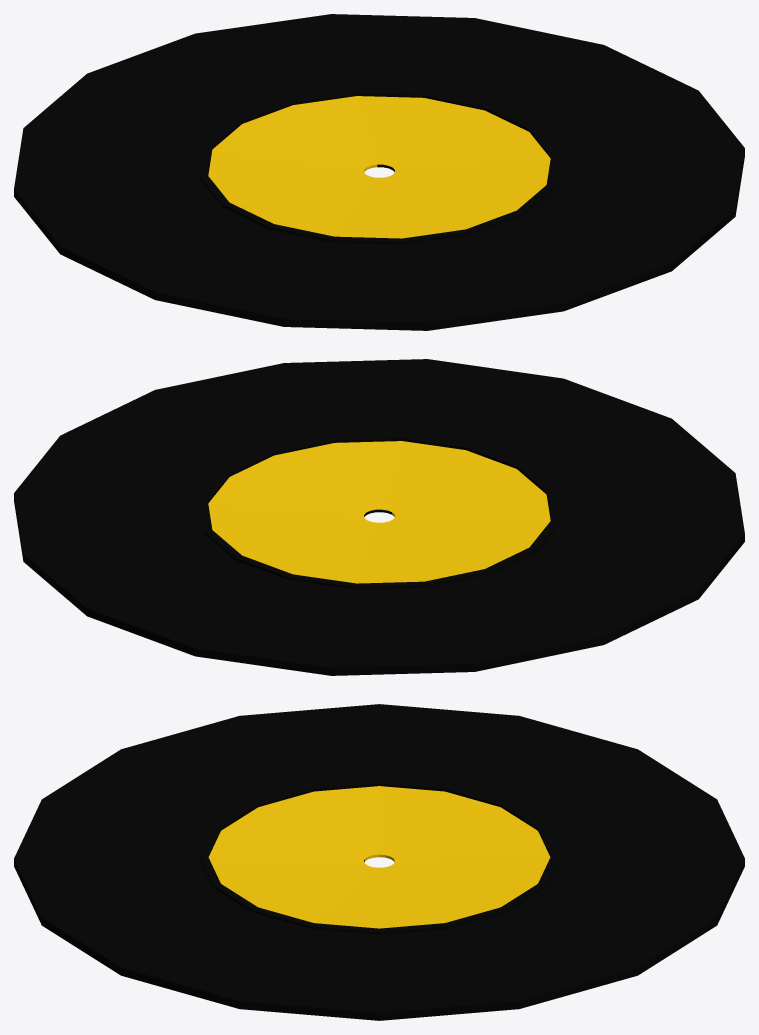
Rendered from Record.fbx.
The picture shows the model from 3 angles, top to bottom: view 1: azimuth 30°, elevation 25°; view 2: azimuth 150°, elevation 25°; view 3: azimuth 270°, elevation 25°; orthographic projection.
Parts seen in each view (by area): view 1: Circle.058; view 2: Circle.058; view 3: Circle.058.
Part boxes in pixels (x1=…): Circle.058: x1=14, y1=14, x2=744, y2=330; Circle.058: x1=14, y1=359, x2=744, y2=675; Circle.058: x1=14, y1=704, x2=744, y2=1020.
Bounding box in the file's own units: 0.9112 × 0.9112 × 0.0142.
